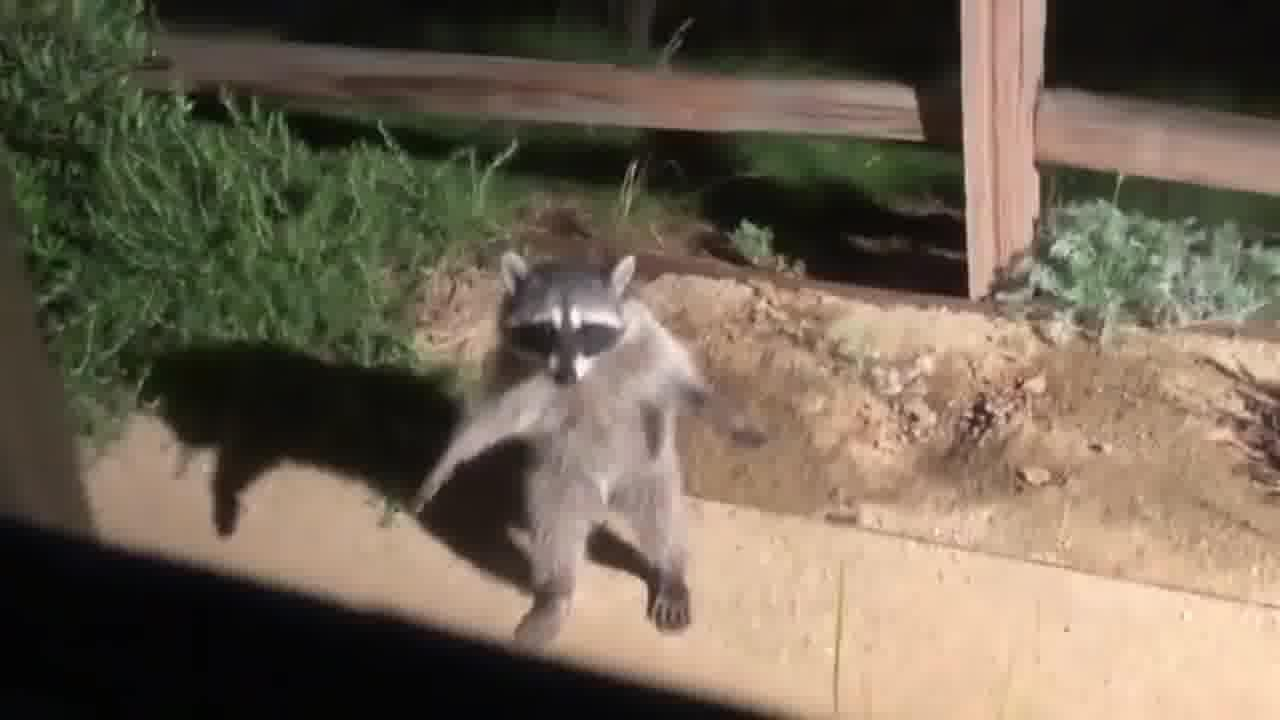raccoon: (408, 249, 765, 657)
